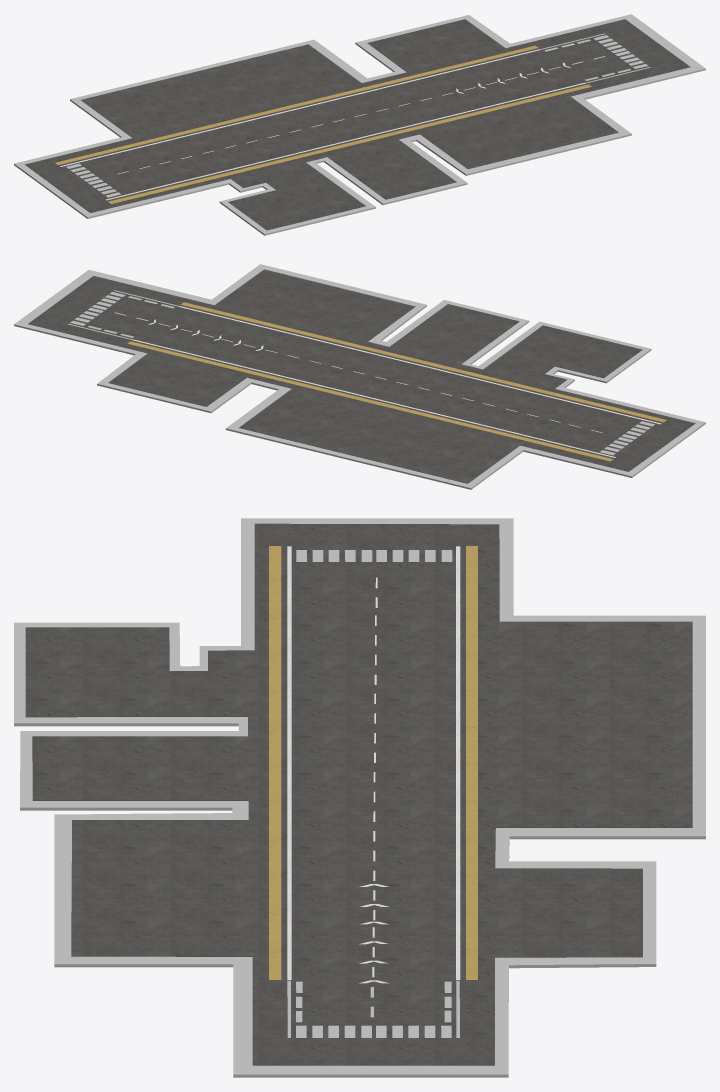
Rendered from SanBayy.fbx.
3 renders of one model, top to bottom at view 1: azimuth 30°, elevation 25°; view 2: azimuth 150°, elevation 25°; view 3: azimuth 270°, elevation 25°, orthographic. The views are drawn at different scales.
Visible parts, largest first — view 1: Object_67; view 2: Object_67; view 3: Object_67.
Boxes of the visible parts, x1,y1,x2,y2 form: Object_67: [14, 14, 705, 235]; Object_67: [14, 264, 705, 489]; Object_67: [14, 518, 705, 1077].
Size of the model in its own units: 2133 by 6.22 by 1121.
5 materials, 3 textured.
